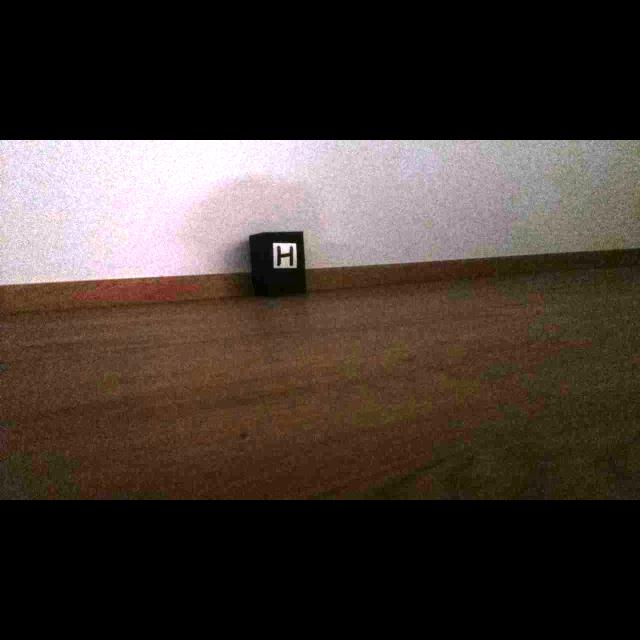H: (277, 246, 293, 266)
